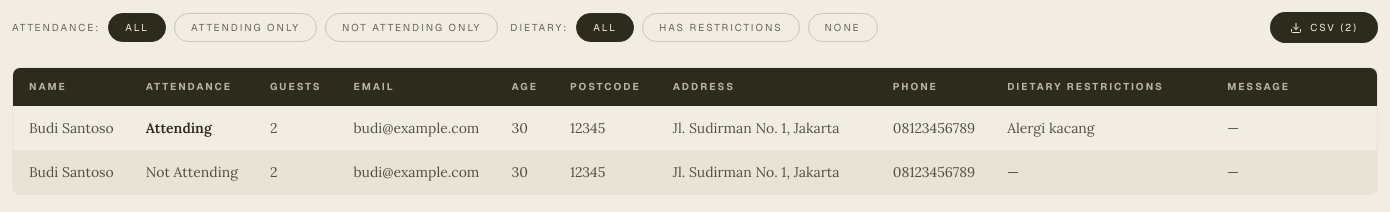
RsvpTable — filtering › resets to all rows via the all chip after filtering
Click the button "Attending only" at (246,28), box [174,13,317,42]
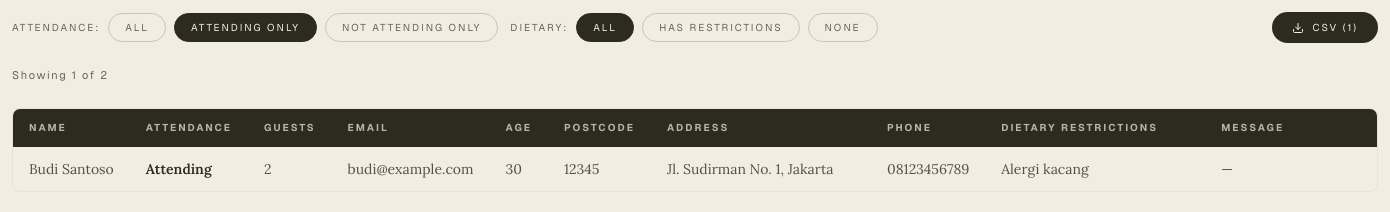
Click the button "All" next to "Attendance:" at (137,28), box [108,13,166,42]
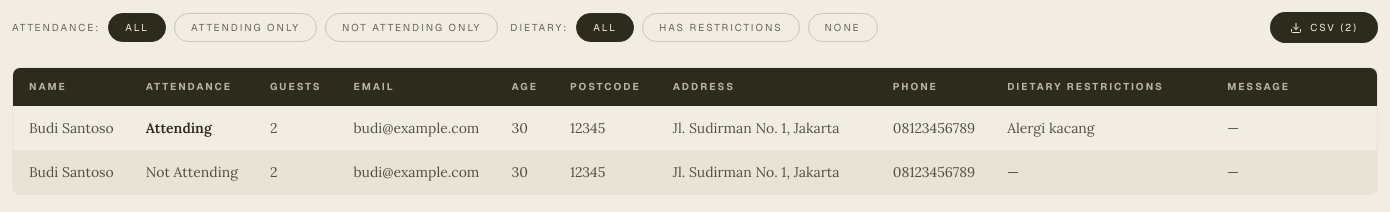
Result: the text "Showing" is gone
